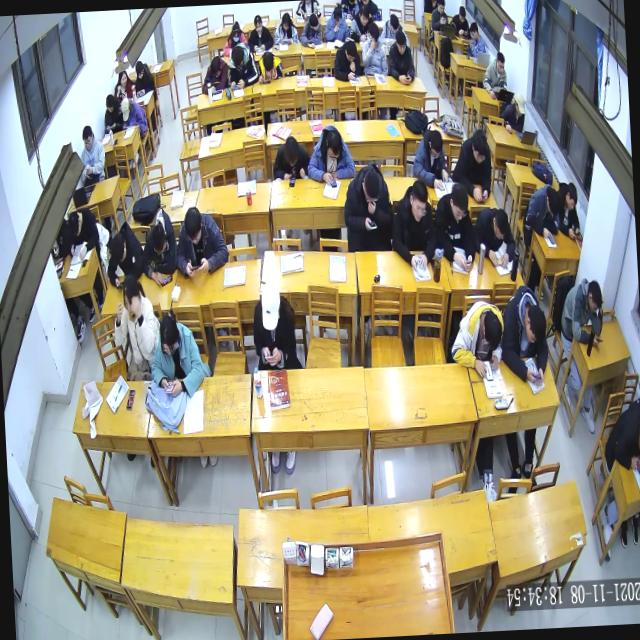bow: (105, 221, 146, 286), (524, 181, 562, 243), (200, 52, 230, 94), (256, 43, 286, 80), (299, 12, 325, 50)
down: (250, 278, 299, 371), (140, 205, 179, 283), (330, 35, 363, 81), (523, 297, 548, 343), (259, 278, 281, 327), (158, 310, 180, 358), (408, 176, 430, 220), (121, 278, 142, 323), (448, 183, 470, 224), (183, 207, 203, 246), (482, 311, 503, 348), (362, 166, 381, 202), (470, 129, 488, 165), (109, 230, 128, 262), (587, 280, 603, 316), (492, 209, 510, 241), (282, 133, 300, 165), (325, 130, 342, 162), (152, 220, 168, 252), (545, 184, 560, 218), (428, 127, 443, 158), (565, 182, 579, 212), (230, 44, 246, 68), (67, 212, 82, 237), (395, 32, 408, 56), (261, 50, 274, 74), (514, 92, 526, 116), (208, 54, 222, 74), (118, 100, 132, 120), (346, 38, 356, 61), (496, 52, 506, 74), (468, 22, 479, 42), (333, 2, 343, 22), (282, 11, 292, 31), (231, 22, 241, 42), (106, 92, 116, 112), (253, 16, 264, 34), (390, 13, 400, 32), (134, 59, 144, 78), (458, 6, 466, 25), (436, 0, 446, 15)
lookup: (82, 122, 94, 150)
sit: (499, 282, 552, 384), (109, 275, 162, 377), (148, 310, 208, 398), (388, 176, 439, 270), (340, 160, 392, 252), (448, 300, 506, 380), (172, 205, 230, 278), (432, 180, 476, 274), (449, 124, 495, 203), (558, 276, 606, 345), (473, 202, 520, 268), (601, 396, 640, 475), (307, 124, 358, 183), (408, 126, 452, 192), (269, 134, 311, 180), (60, 208, 100, 256), (76, 121, 108, 181), (359, 19, 389, 78), (388, 27, 416, 84), (556, 178, 582, 239), (226, 40, 259, 87), (498, 92, 528, 134), (246, 12, 276, 54), (378, 12, 408, 52), (482, 51, 508, 97), (322, 4, 350, 44), (132, 57, 160, 97), (118, 91, 148, 128), (101, 89, 125, 132), (272, 10, 300, 46), (220, 22, 248, 56), (112, 68, 136, 104), (465, 22, 486, 59), (449, 4, 469, 38), (295, 0, 323, 21), (429, 0, 448, 30), (358, 0, 381, 21), (337, 0, 360, 21), (422, 0, 438, 13), (123, 125, 137, 139)
